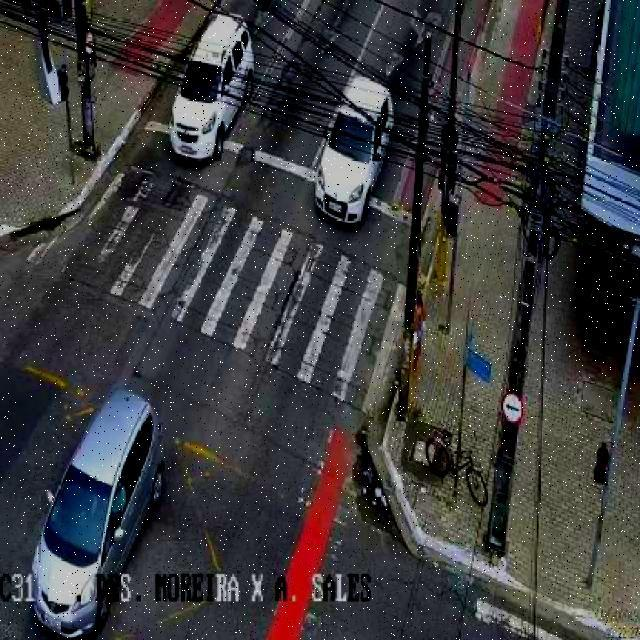Car: (23, 387, 171, 639), (168, 13, 255, 166), (310, 75, 397, 226)
Cycle: (424, 426, 491, 507)
